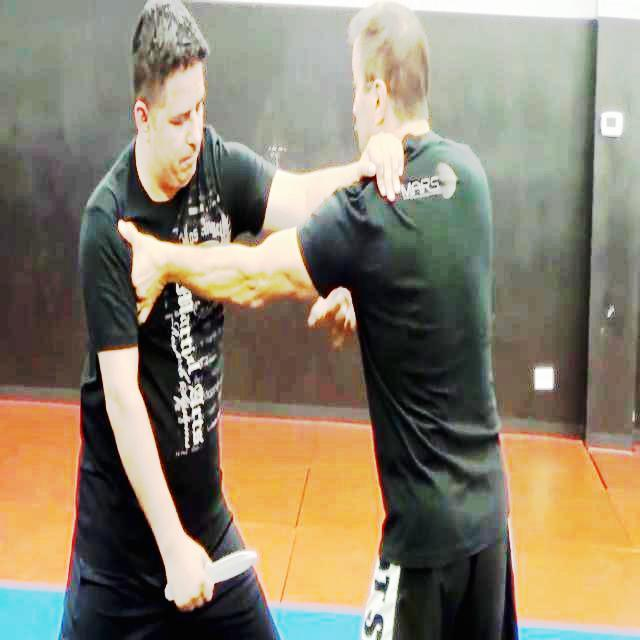Knife: (162, 538, 260, 612)
